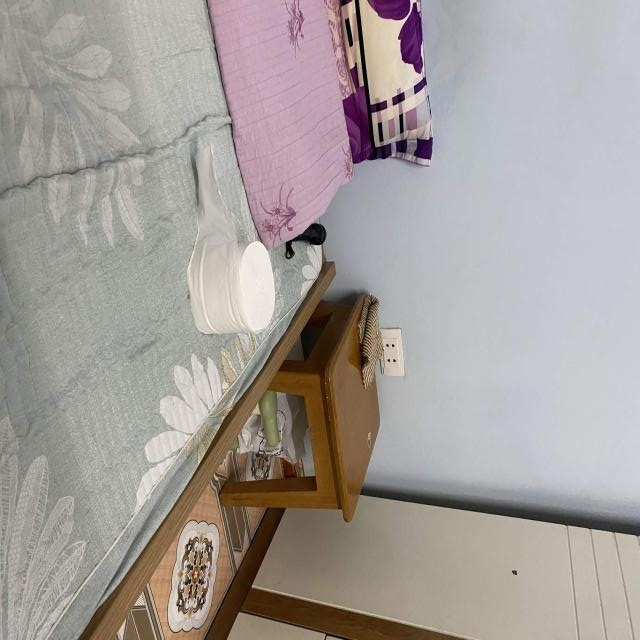outlet: (379, 327, 405, 376)
